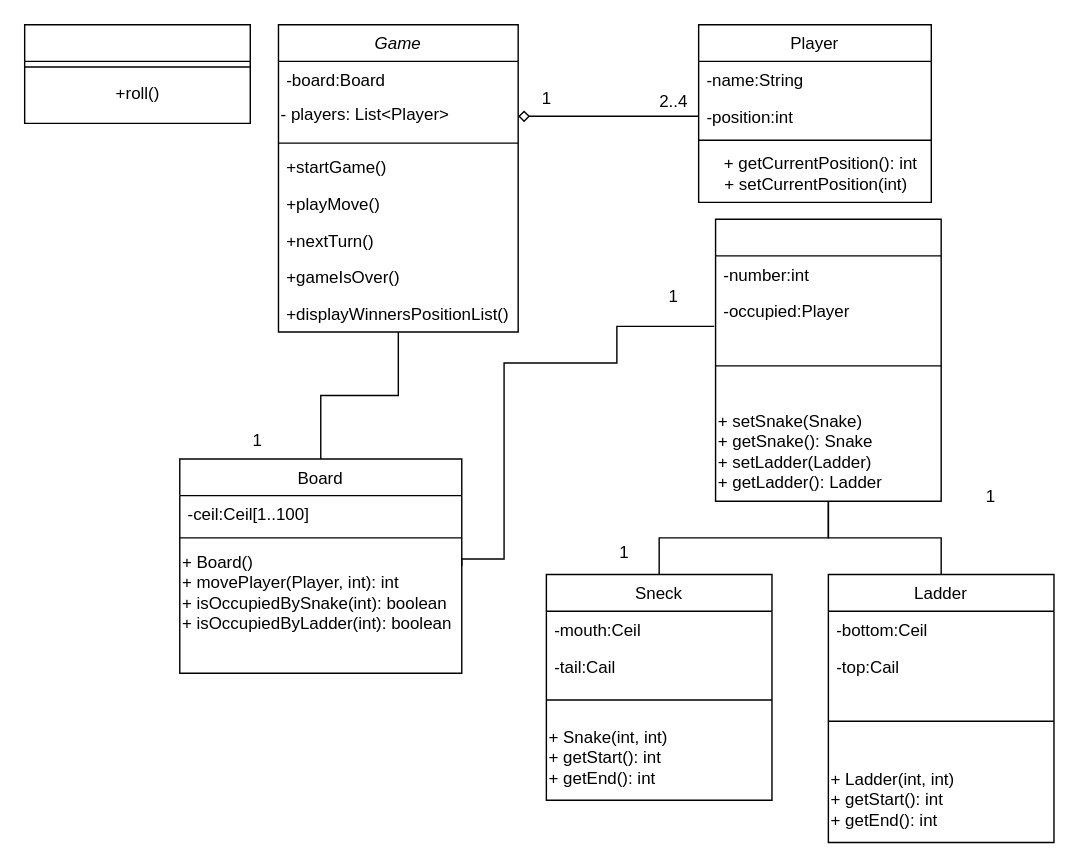
Some shapes in this 1079 by 867 pixel diagram are drawn without their labels. The box of each missing label's shape, as (x1, y1, x2, y2) in pixels:
Ceil: (714, 218, 941, 501)
Dice: (23, 23, 250, 123)
